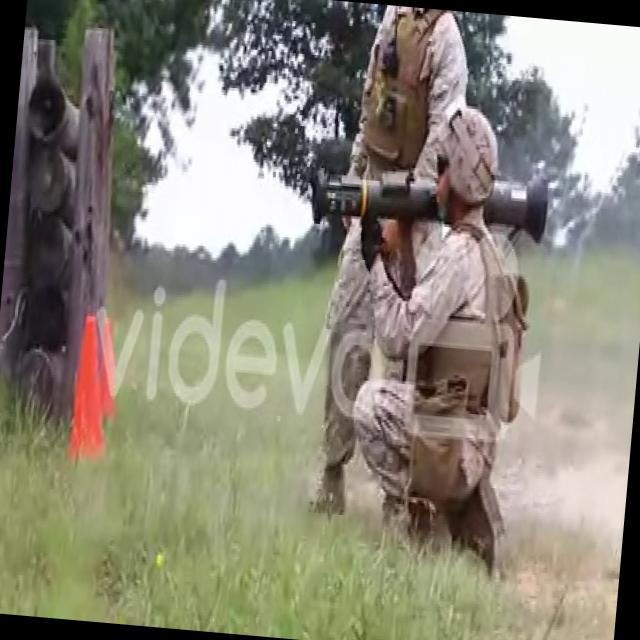rocket: (308, 162, 548, 246)
